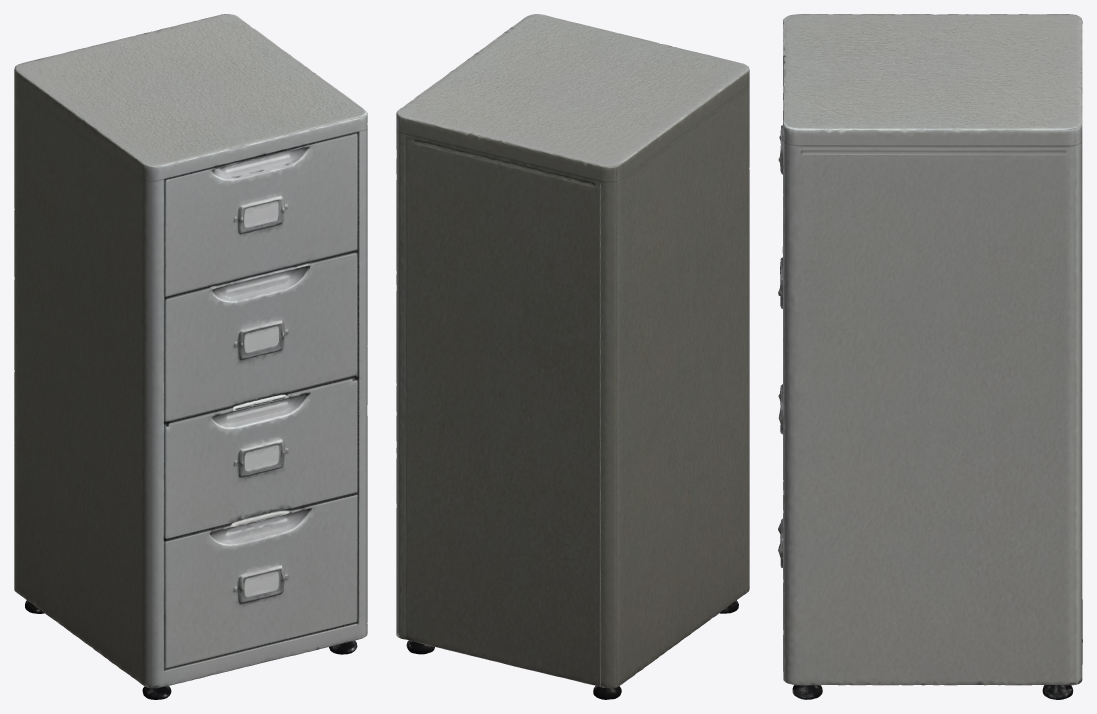
File: FilingCabinet.glb
3 views of the same model, side by side, from view 1: azimuth 30°, elevation 25°; view 2: azimuth 150°, elevation 25°; view 3: azimuth 270°, elevation 25° (orthographic). The views are drawn at different scales.
Visible parts, largest first — view 1: texture_mapping; view 2: texture_mapping; view 3: texture_mapping.
Boxes of the visible parts, bbox=[...] form: texture_mapping: bbox=[14, 14, 367, 699]; texture_mapping: bbox=[396, 14, 749, 699]; texture_mapping: bbox=[778, 14, 1082, 699].
Size of the model in its own units: 0.4325 by 1 by 0.4808.
1 material, 1 textured.
